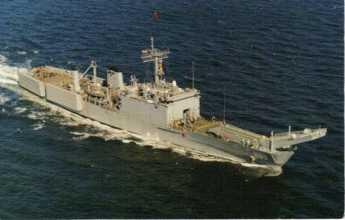warship: (14, 41, 328, 160)
